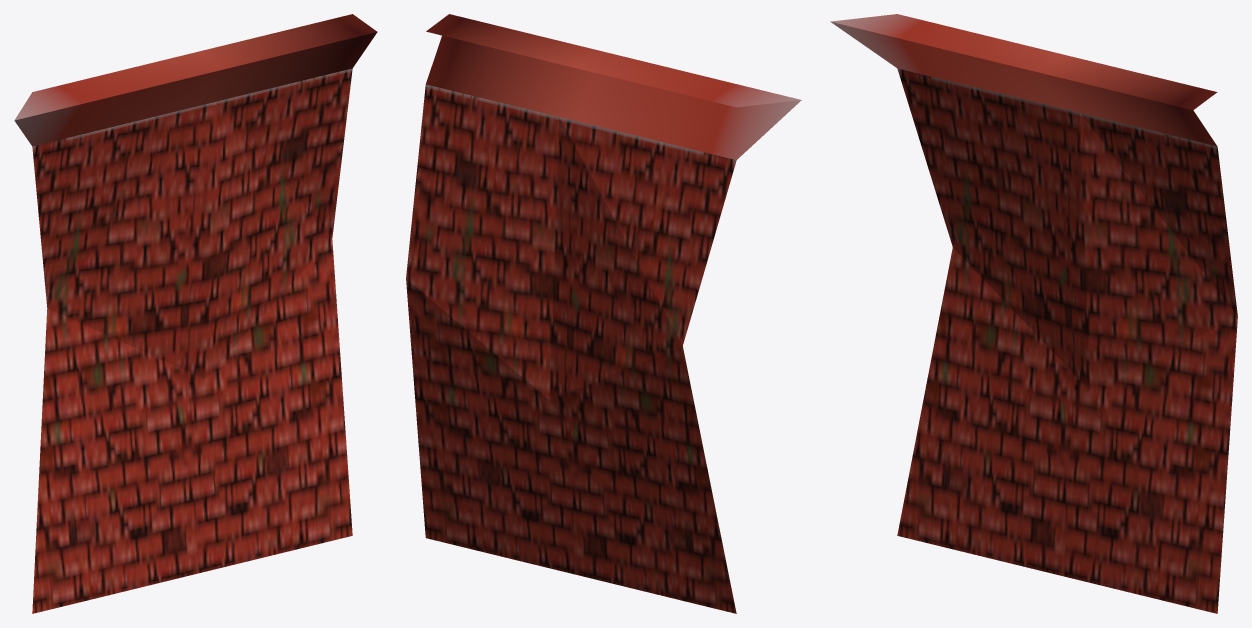
The model's file is W_A2l_x [Ziegel]_1349.glb.
The picture shows the model from 3 angles, left to right: view 1: azimuth 30°, elevation 25°; view 2: azimuth 150°, elevation 25°; view 3: azimuth 330°, elevation 25°; orthographic projection. The views are drawn at different scales.
Visible parts, largest first — view 1: polySurfaceShape1219, polySurfaceShape1221; view 2: polySurfaceShape1219, polySurfaceShape1221; view 3: polySurfaceShape1219, polySurfaceShape1221.
Part boxes in pixels (box(x1,y1,x2,y2)): polySurfaceShape1219: box(32, 68, 352, 613); polySurfaceShape1221: box(14, 14, 377, 146); polySurfaceShape1219: box(406, 84, 736, 613); polySurfaceShape1221: box(426, 14, 801, 159); polySurfaceShape1219: box(897, 68, 1237, 613); polySurfaceShape1221: box(830, 14, 1217, 146).
Bounding box in the file's own units: 0.2836 × 0.3891 × 0.0607.
2 materials, 2 textured.
